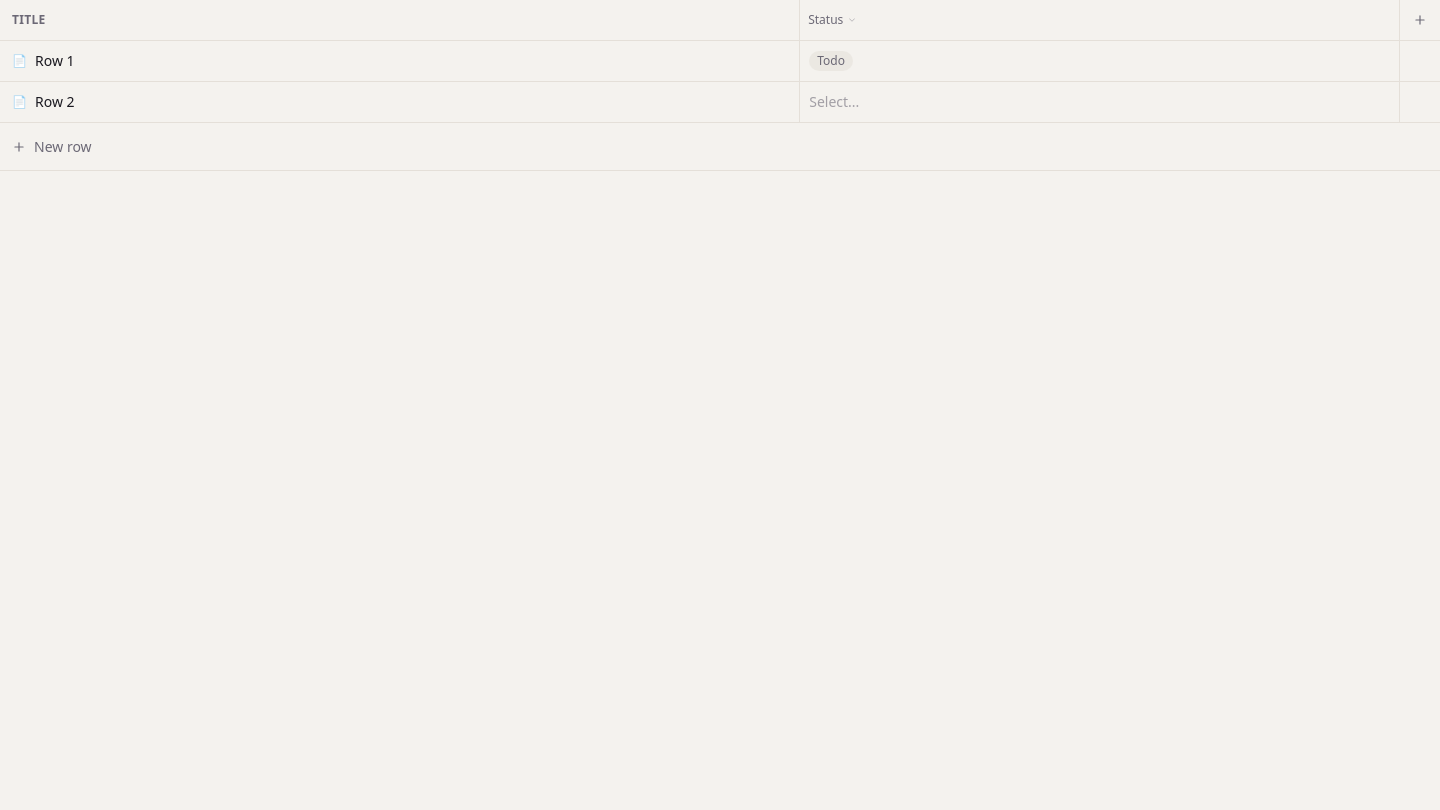
Test case: DatabaseView — delete property (ADV-039) › shows a confirm dialog before deleting a property
Open the property header menu
What coordinates should you click on to do the following:
click the button with aria-label "Status options"
I would click on:
 (833, 20)
Its box is 800,0 -> 865,40.
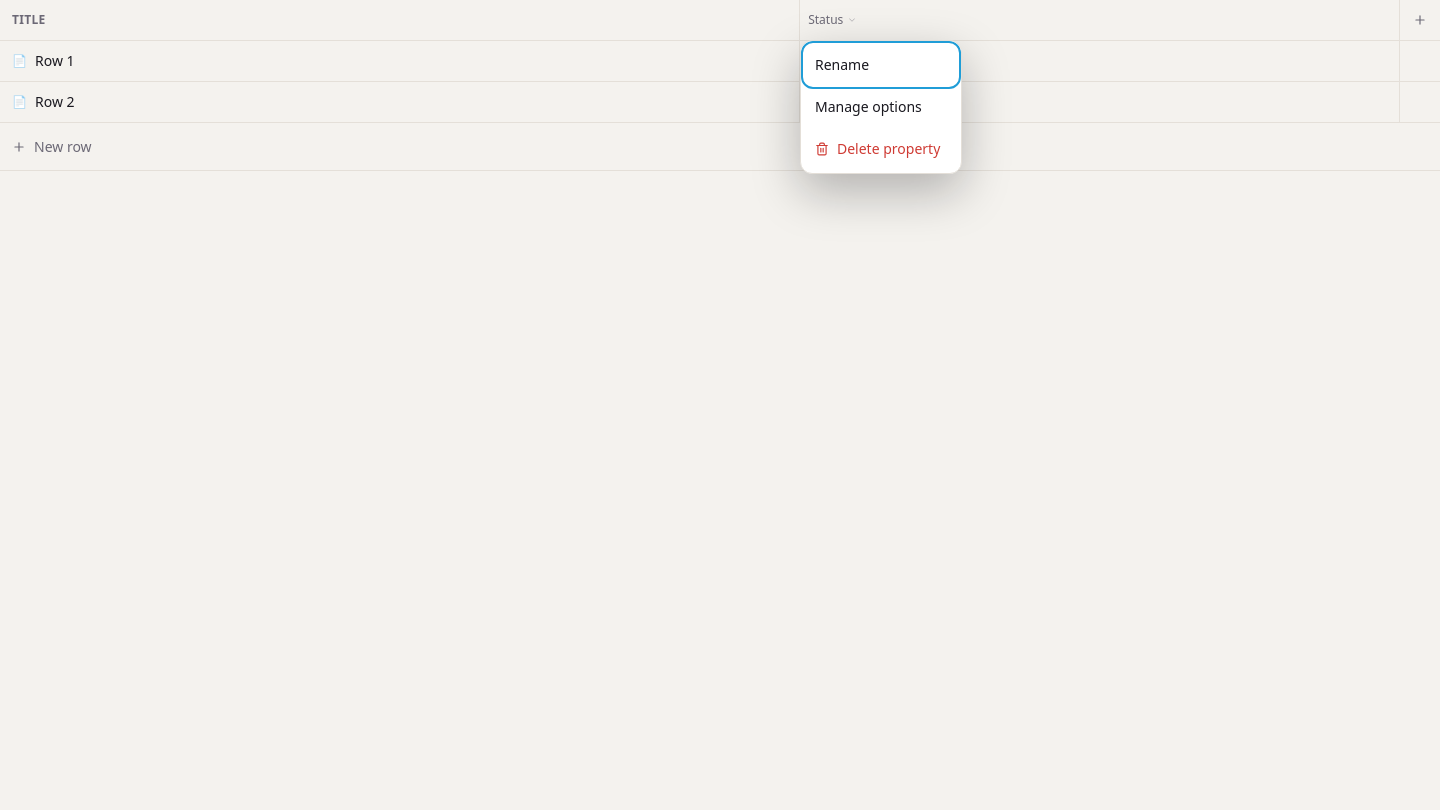
Click "Delete property" in the floating menu
What coordinates should you click on to do the following:
click the button "Delete property"
I would click on:
 (881, 149)
Its box is 805,129 -> 957,169.
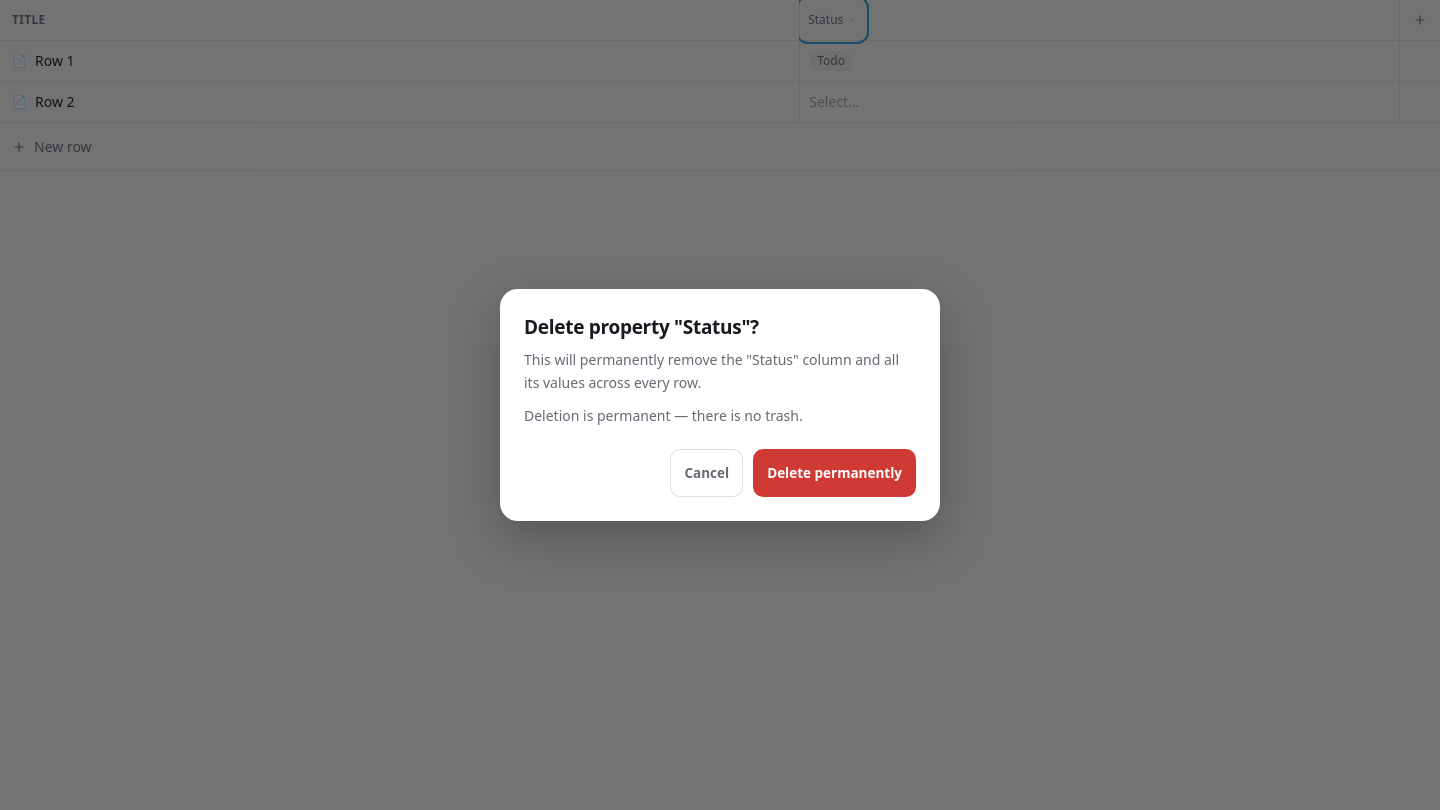
Expected: the button "Delete permanently" is shown, 753,449 -> 916,497
